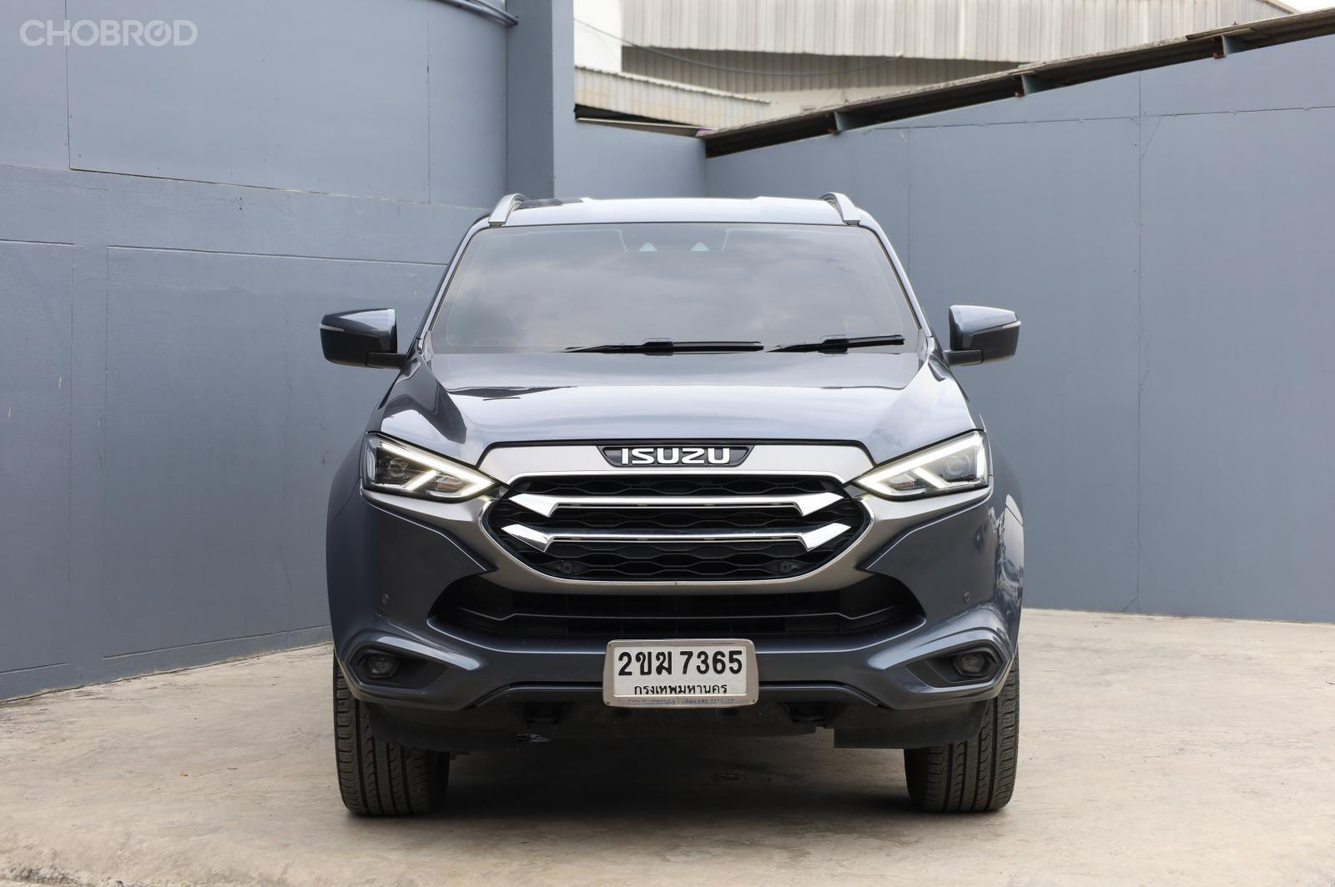license-plate: (596, 626, 767, 718)
